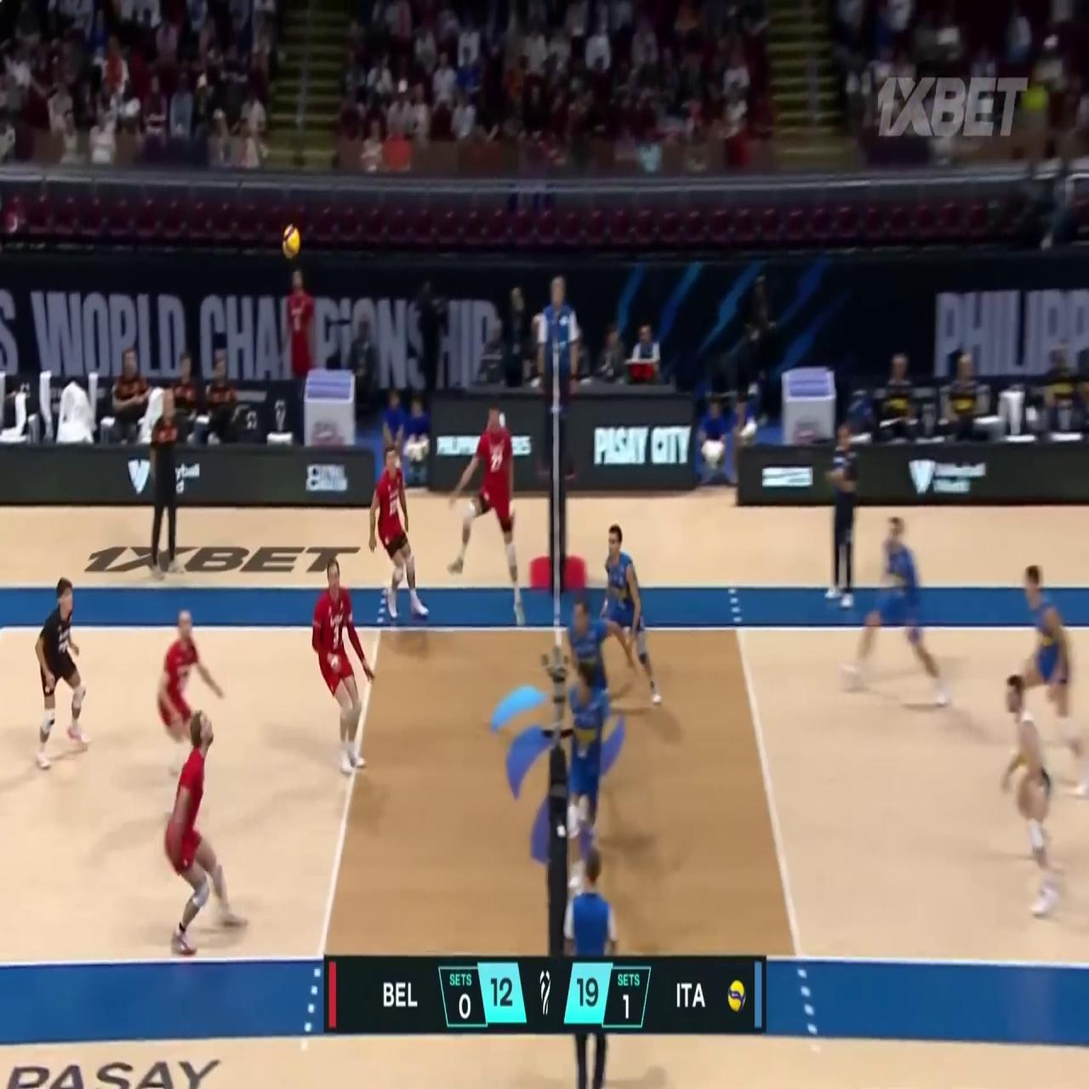ball: (282, 223, 301, 259)
